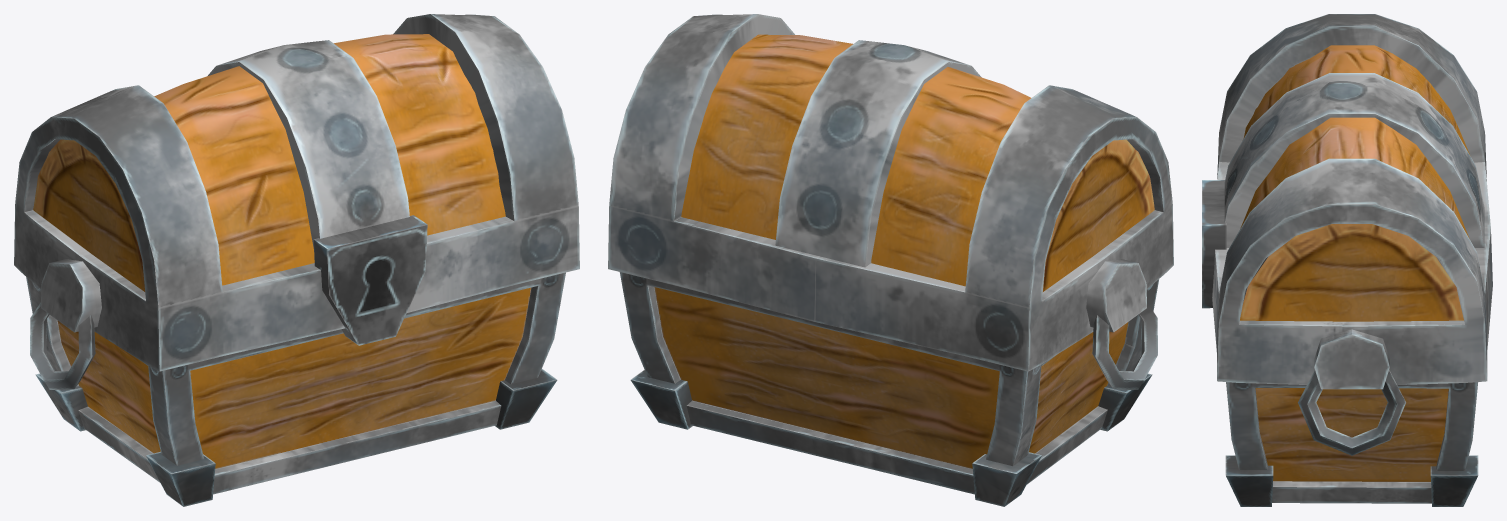
Rendered from Chest.FBX.
3 renders of one model, left to right at view 1: azimuth 30°, elevation 25°; view 2: azimuth 150°, elevation 25°; view 3: azimuth 270°, elevation 25°, orthographic. The views are drawn at different scales.
Parts seen in each view (by area): view 1: Chest_Top, Chest; view 2: Chest_Top, Chest; view 3: Chest_Top, Chest.
Boxes of the visible parts, box(x1,y1,x2,y2) form: Chest_Top: box(14, 14, 579, 389); Chest: box(26, 272, 565, 506); Chest_Top: box(608, 14, 1173, 389); Chest: box(619, 272, 1159, 506); Chest_Top: box(1202, 14, 1492, 455); Chest: box(1225, 382, 1478, 506).
Bounding box in the file's own units: 48.95 × 33.95 × 26.28.
